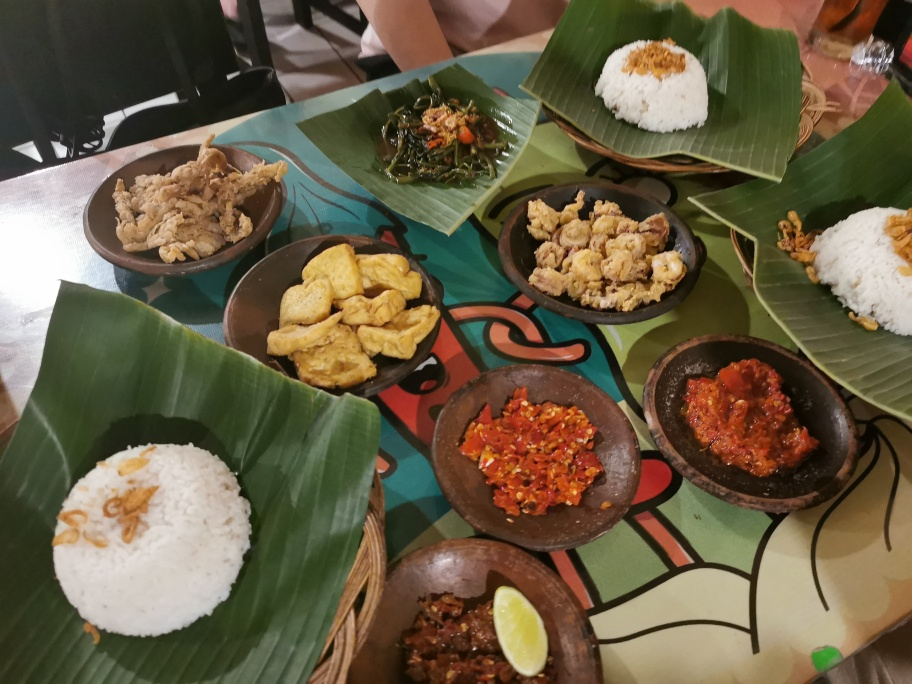nasi putih: (52, 440, 252, 638), (599, 37, 712, 130)
